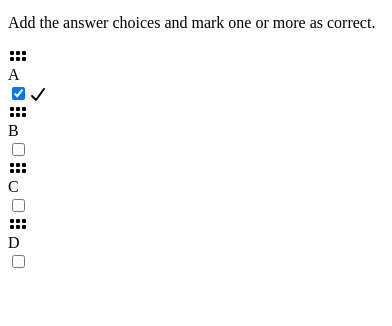
Test: MultiChoiceAnswerEditor › shows the missing-correct group error after unchecking the final correct answer exactly once
Click the checkbox named "Mark Option 1 as correct" at (18, 94), box [12, 87, 25, 100]
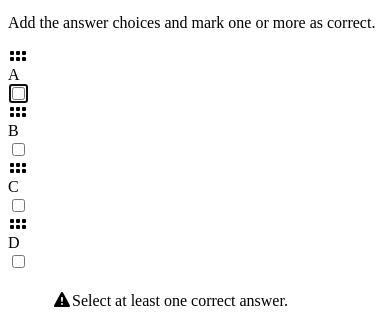
Expected: the text "Select at least one correct answer." is shown once, [52, 292, 288, 309]
